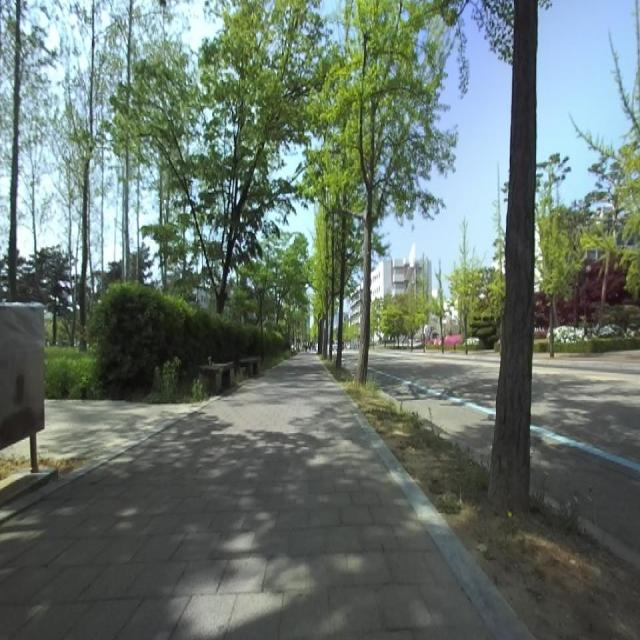sidewalk: (1, 354, 533, 639), (1, 355, 492, 639)
